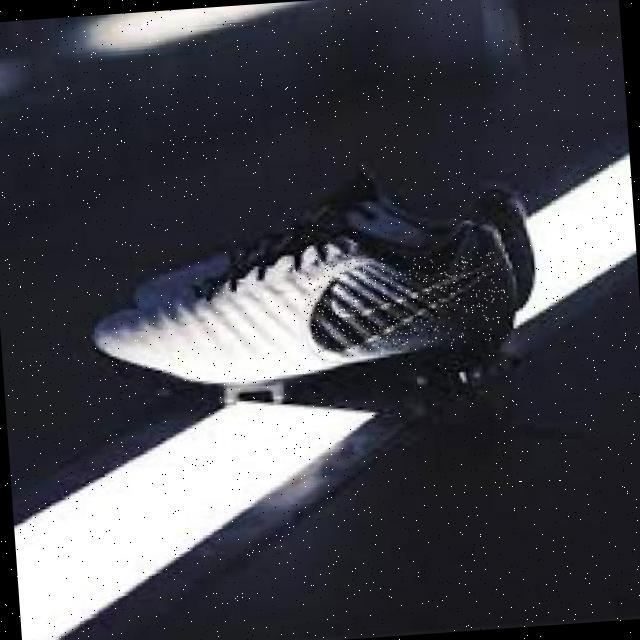Nike: (305, 249, 511, 353)
